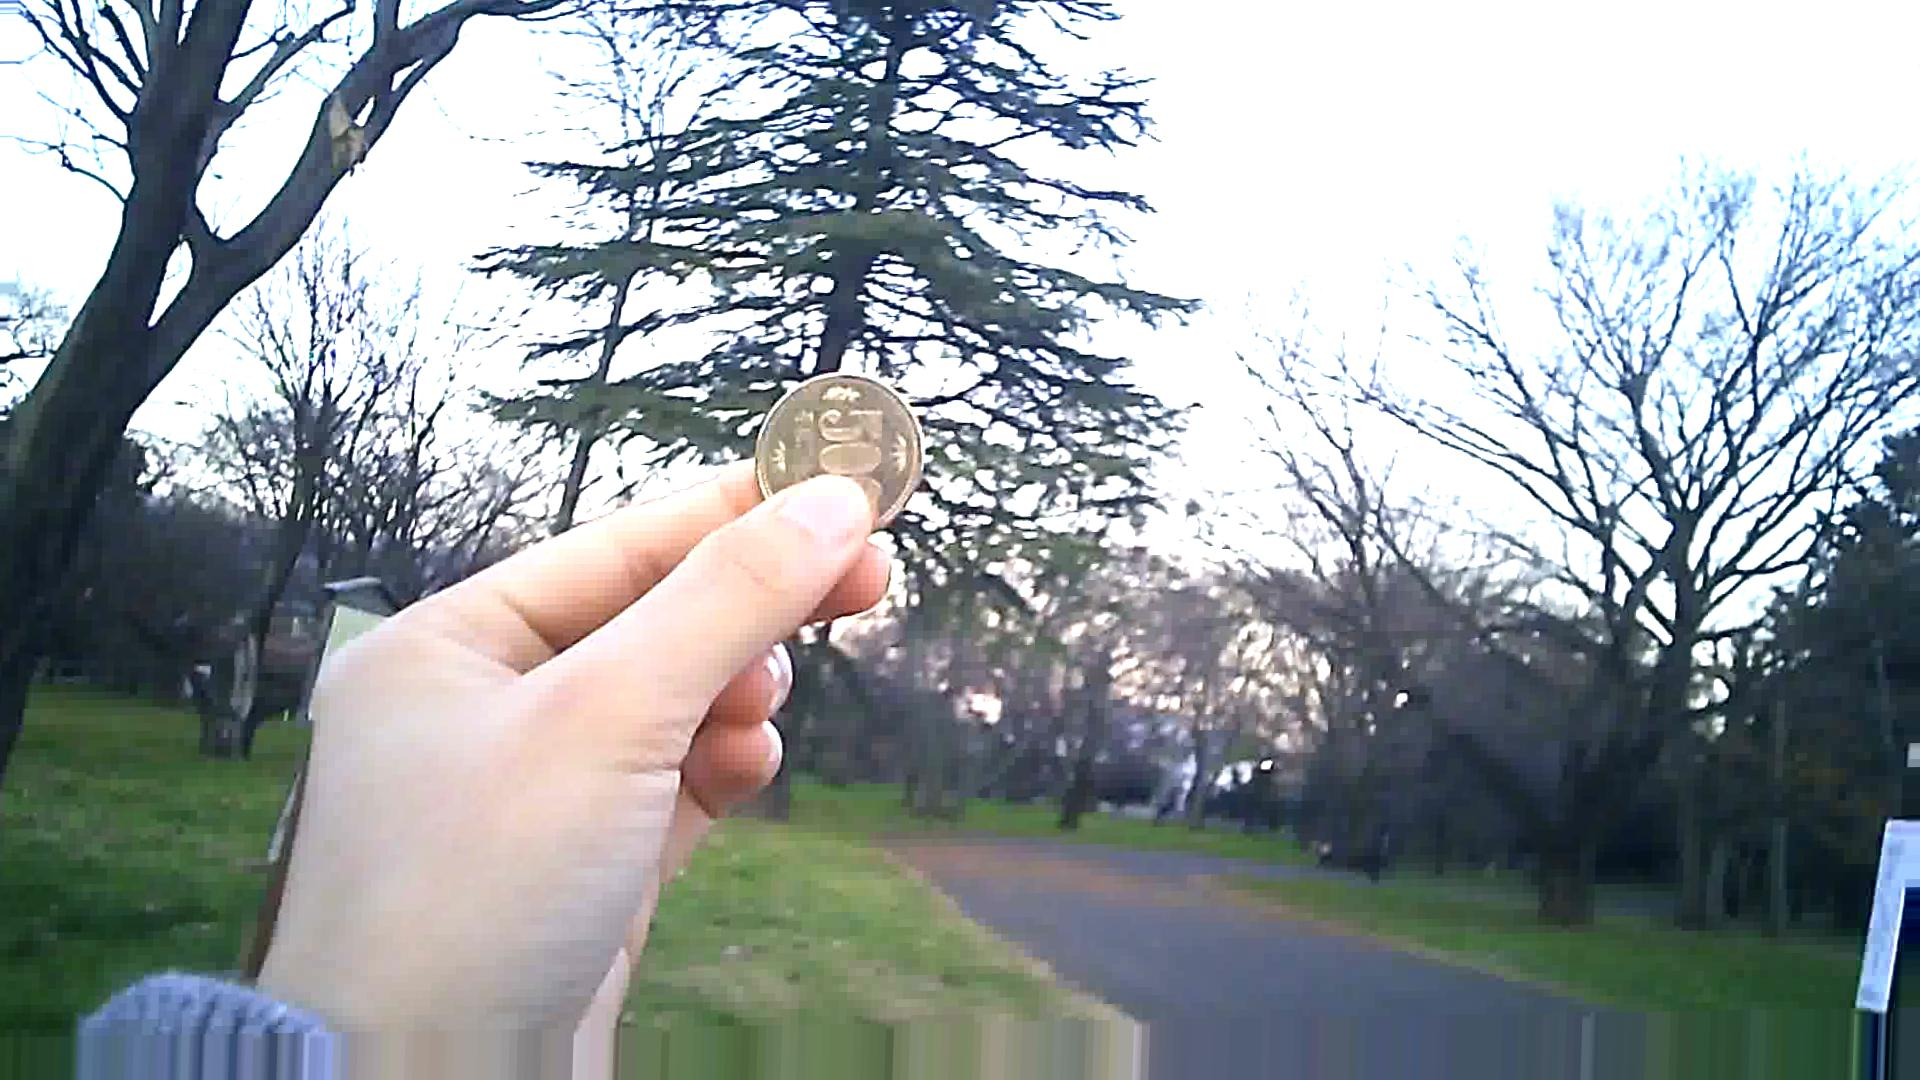500 Yen: (752, 369, 928, 537)
